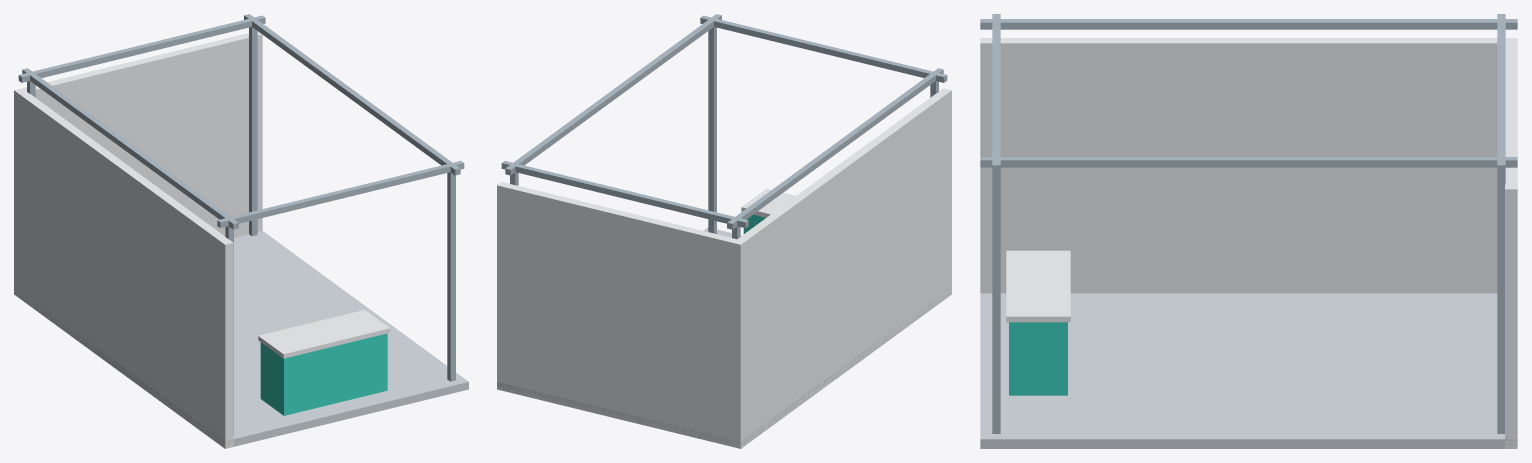
The picture shows the model from 3 angles, left to right: view 1: azimuth 30°, elevation 25°; view 2: azimuth 150°, elevation 25°; view 3: azimuth 270°, elevation 25°; orthographic projection. The views are drawn at different scales.
Visible parts, largest first — view 1: Exhibition Booth Concept; view 2: Exhibition Booth Concept; view 3: Exhibition Booth Concept.
Part boxes in pixels (box(x1,y1,x2,y2)): Exhibition Booth Concept: box(14, 14, 468, 448); Exhibition Booth Concept: box(497, 14, 951, 448); Exhibition Booth Concept: box(980, 14, 1517, 448).
Bounding box in the file's own units: 4 × 3.49 × 6.
